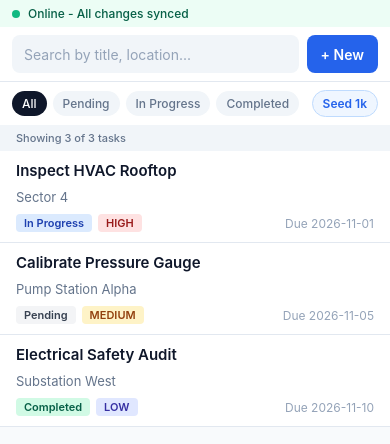
Test: TaskListScreen › filters task list by search query
In the field with test id "task-search-input": [155, 54] box [12,35,299,73], type "Calibrate"
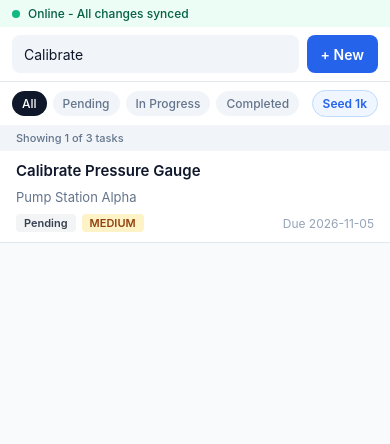
Expected: the text "Calibrate Pressure Gauge" is shown, [16,161,200,180]
Result: the text "Inspect HVAC Rooftop" is gone
